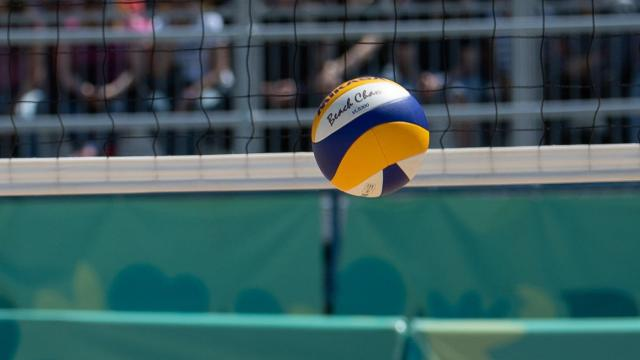ball: (311, 76, 430, 197)
